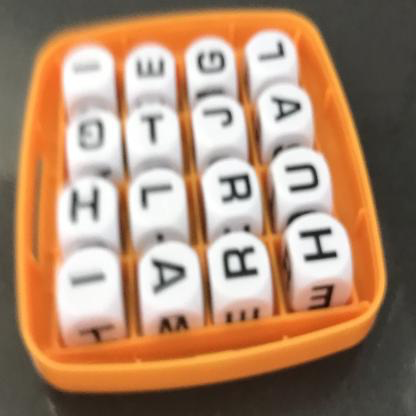a: (143, 243, 197, 309), (262, 82, 310, 137)
e: (132, 46, 173, 89)
g: (68, 107, 113, 162), (191, 39, 228, 85)
h: (64, 172, 111, 234), (293, 221, 342, 274)
i: (61, 259, 111, 306), (69, 45, 113, 89)
j: (193, 98, 240, 141)
l: (134, 175, 186, 226), (251, 28, 291, 76)
r: (213, 233, 270, 294), (213, 163, 258, 220)
t: (136, 109, 173, 153)
u: (279, 152, 324, 205)
